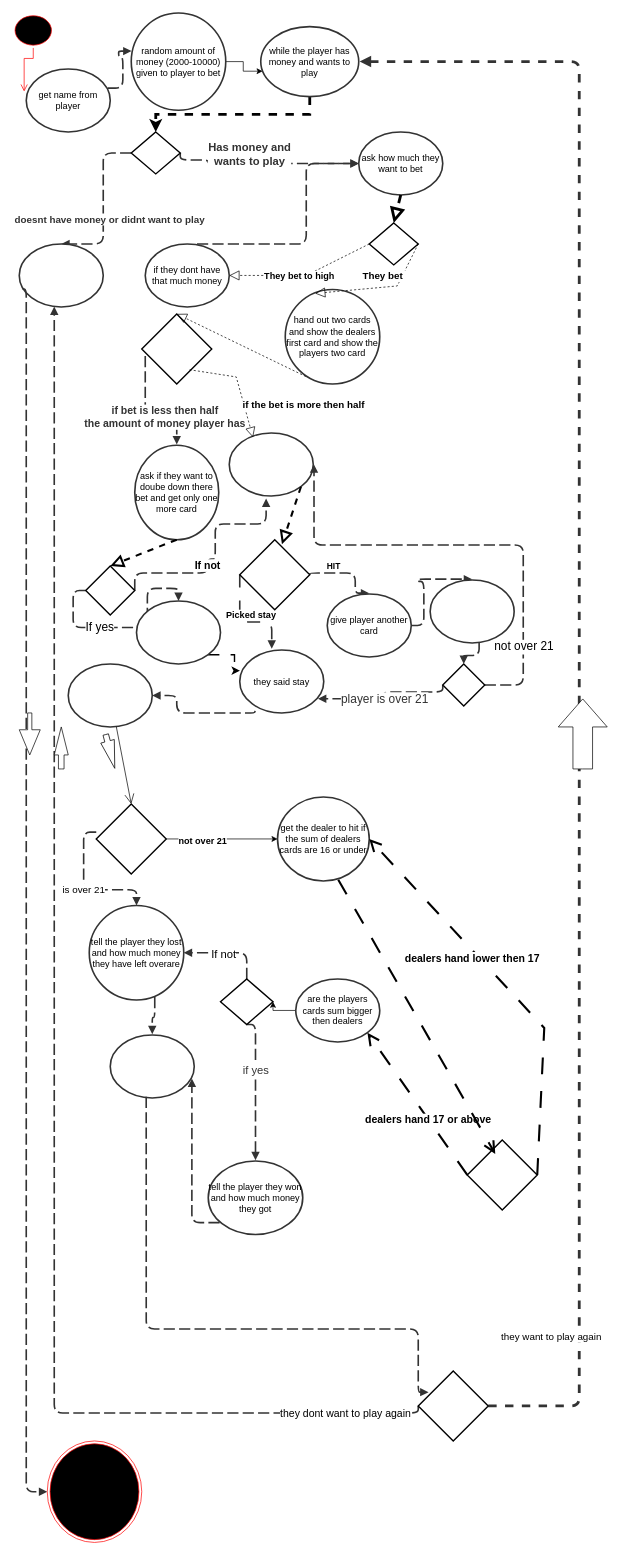
The diagram is 620 pixels wide and 1555 high, and some of its shapes have lost their labels. The centre of each missing label's shape, as x and y in pixels:
"ask if they would like to hit for another card" belongs at (271,464).
"ask if they would like to play again" belongs at (152,1066).
"check to see if players cards are over 21" belongs at (472,611).
"give player one more card and bet times two" belongs at (178,632).
"if player over 21" belongs at (110,695).
"tell the player good bye and how much they have left" belongs at (61,275).
